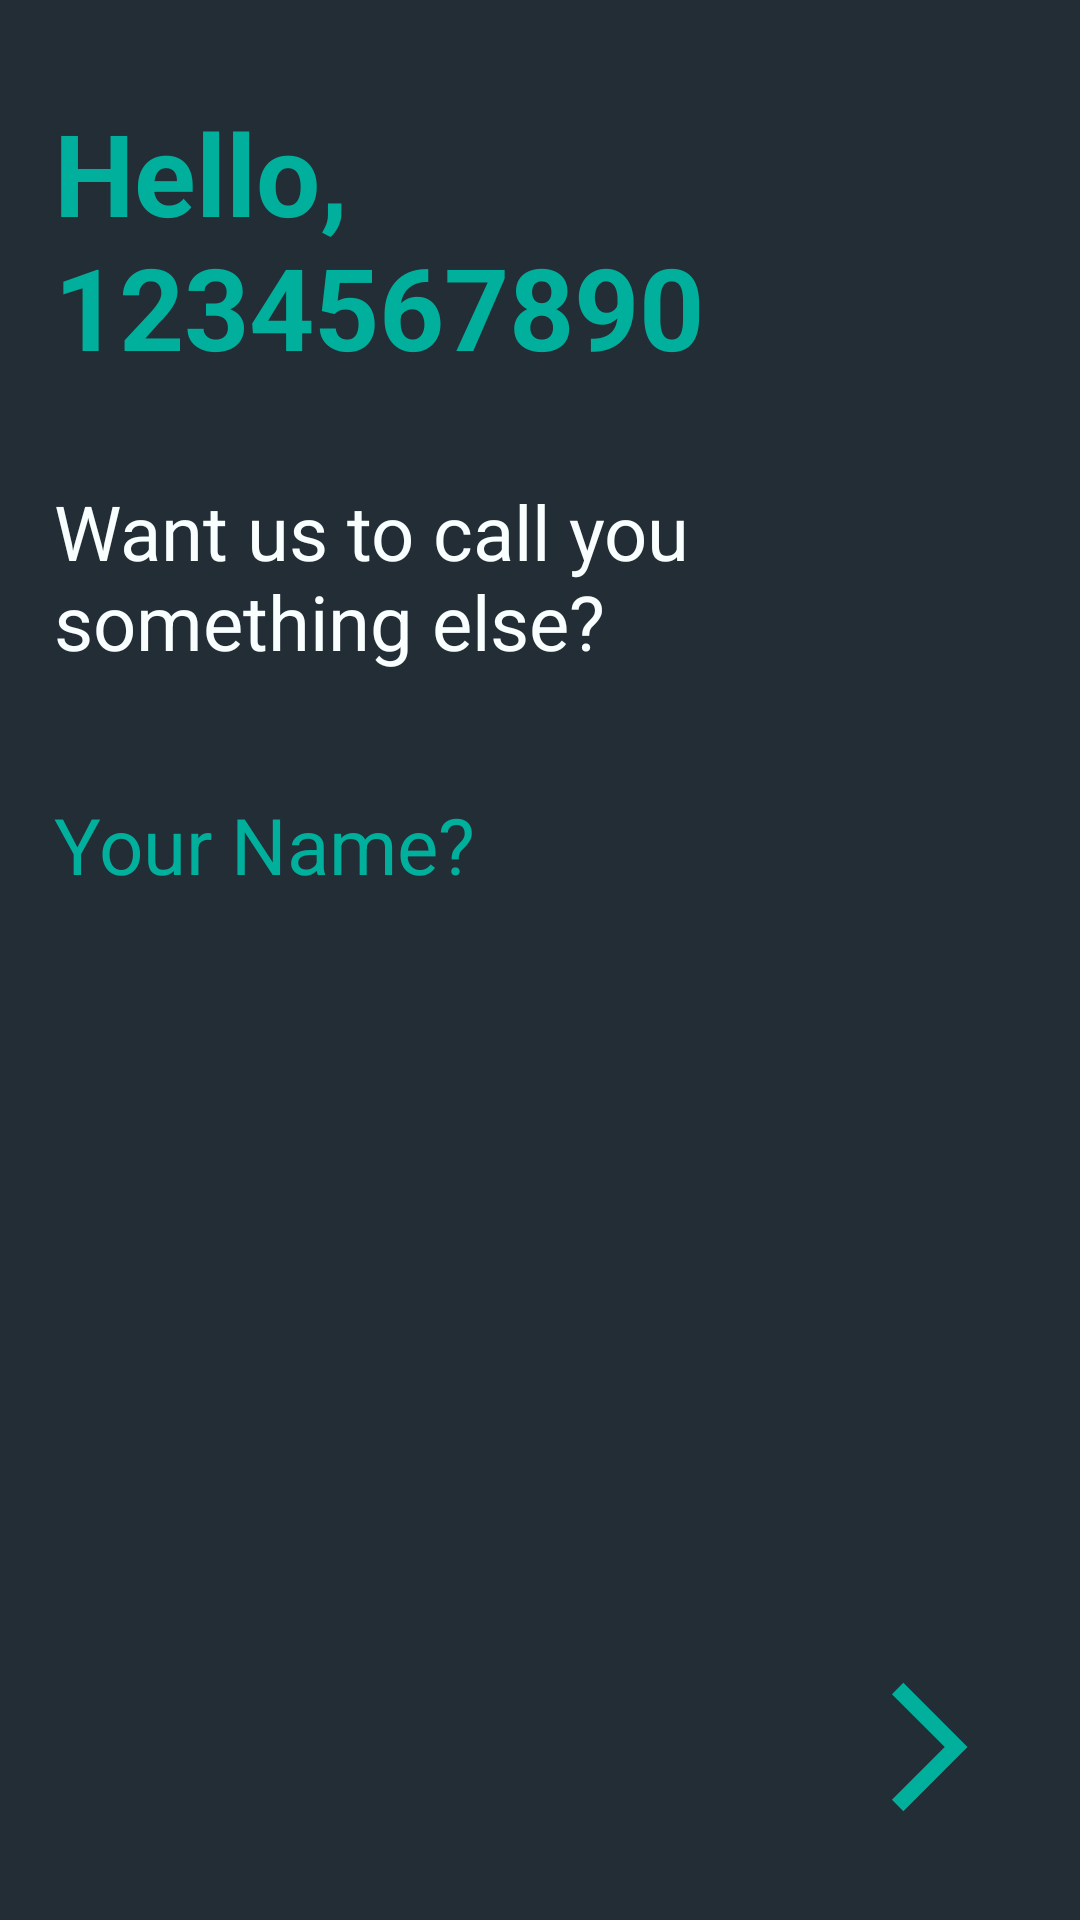

Icon click points for this 1080*1920 phone screenshot, format [x,y]:
right arrow: [929,1747]
